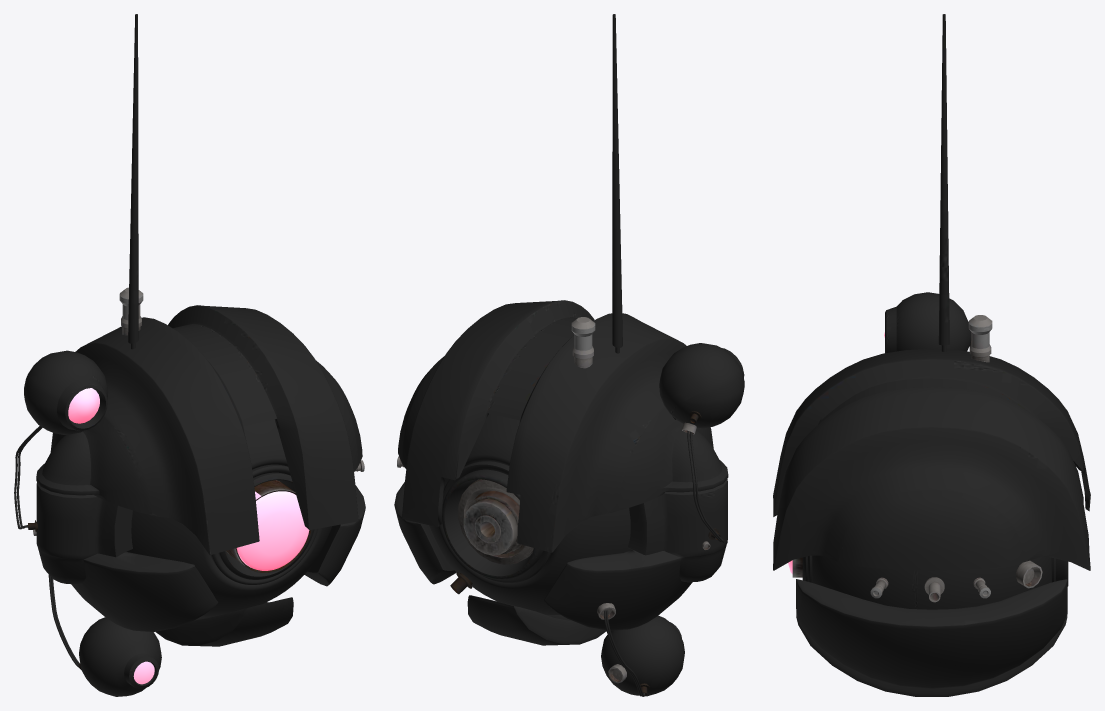
Rendered from probe-transformed.glb.
3 renders of one model, left to right at view 1: azimuth 30°, elevation 25°; view 2: azimuth 150°, elevation 25°; view 3: azimuth 270°, elevation 25°, orthographic.
Visible parts, largest first — view 1: shell_low, cam_low, ball_low, d_low, Object018_Material #26_0; view 2: shell_low, cam_low, ball_low, d_low; view 3: shell_low, ball_low, d_low, cam_low.
Boxes of the visible parts, x1,y1,x2,y2 form: shell_low: [36, 305, 365, 646]; cam_low: [24, 350, 311, 696]; ball_low: [126, 419, 332, 616]; d_low: [14, 14, 364, 669]; Object018_Material #26_0: [236, 491, 309, 570]; shell_low: [394, 300, 728, 645]; cam_low: [458, 343, 744, 696]; ball_low: [429, 413, 631, 614]; d_low: [397, 14, 723, 696]; shell_low: [773, 349, 1090, 696]; ball_low: [802, 555, 1068, 609]; d_low: [870, 14, 1042, 602]; cam_low: [792, 292, 971, 577].
Bounding box in the file's own units: 14.1 × 28.27 × 11.96.
2 materials, 1 textured.
